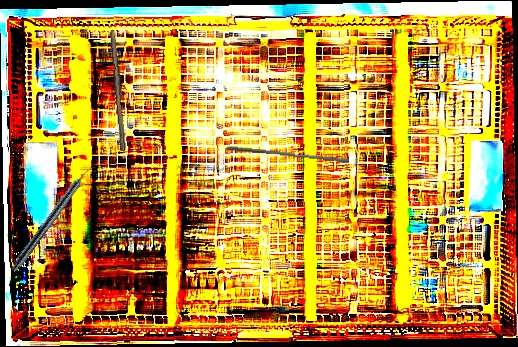Handpiece: (9, 161, 97, 275)
Pusher: (225, 145, 350, 164)
Scalpel Handle: (107, 29, 130, 152)
